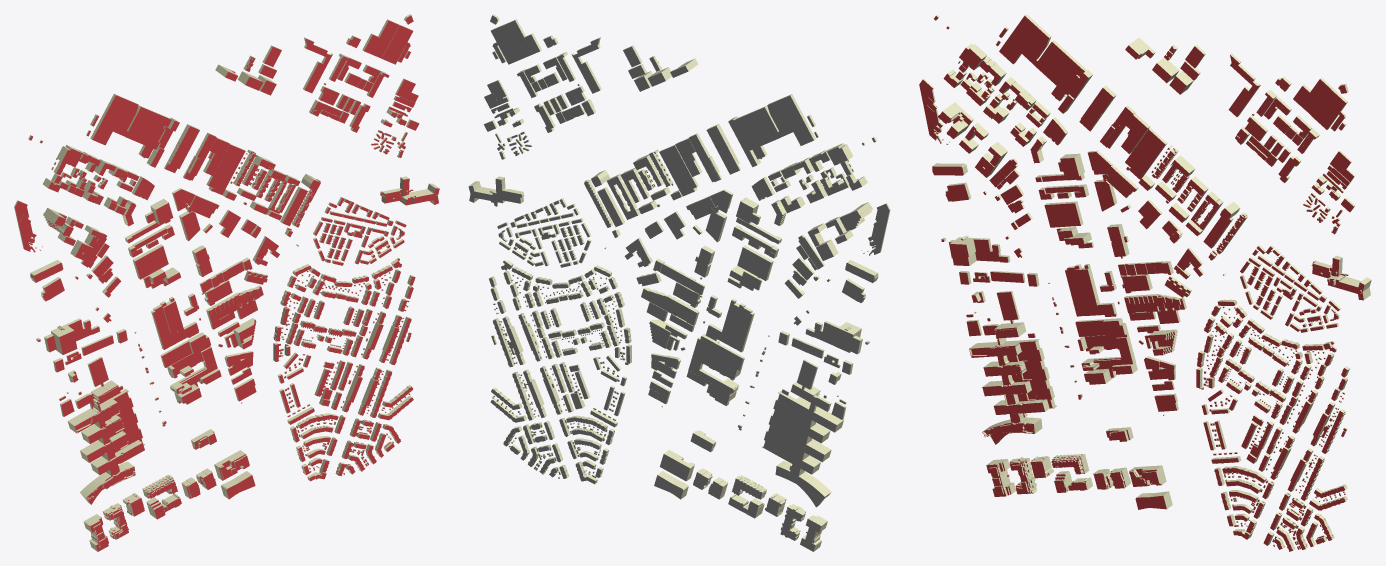
The picture shows the model from 3 angles, left to right: view 1: azimuth 30°, elevation 25°; view 2: azimuth 150°, elevation 25°; view 3: azimuth 330°, elevation 25°; orthographic projection. The views are drawn at different scales.
Visible parts, largest first — view 1: NL.IMBAG.Pand.0363100012202175-24, NL.IMBAG.Pand.0363100012114605-174, NL.IMBAG.Pand.0363100012064810-49, NL.IMBAG.Pand.0363100012134024-43, NL.IMBAG.Pand.0363100012201637-1, NL.IMBAG.Pand.0363100012150568-1884, NL.IMBAG.Pand.0363100012253661-1615, NL.IMBAG.Pand.0363100012209785-44, NL.IMBAG.Pand.0363100012240270-153, NL.IMBAG.Pand.0363100012111806-184, NL.IMBAG.Pand.0363100012079326-1946, NL.IMBAG.Pand.0363100012252988-225 (+9 smaller); view 2: NL.IMBAG.Pand.0363100012202175-24, NL.IMBAG.Pand.0363100012114605-174, NL.IMBAG.Pand.0363100012064810-49, NL.IMBAG.Pand.0363100012201637-1, NL.IMBAG.Pand.0363100012134024-43, NL.IMBAG.Pand.0363100012253661-1615, NL.IMBAG.Pand.0363100012150568-1884, NL.IMBAG.Pand.0363100012209785-44, NL.IMBAG.Pand.0363100012240270-153, NL.IMBAG.Pand.0363100012111806-184, NL.IMBAG.Pand.0363100012079326-1946, NL.IMBAG.Pand.0363100012252988-225 (+8 smaller); view 3: NL.IMBAG.Pand.0363100012202175-24, NL.IMBAG.Pand.0363100012114605-174, NL.IMBAG.Pand.0363100012064810-49, NL.IMBAG.Pand.0363100012134024-43, NL.IMBAG.Pand.0363100012201637-1, NL.IMBAG.Pand.0363100012150568-1884, NL.IMBAG.Pand.0363100012253661-1615, NL.IMBAG.Pand.0363100012240270-153, NL.IMBAG.Pand.0363100012209785-44, NL.IMBAG.Pand.0363100012128727-1966, NL.IMBAG.Pand.0363100012079326-1946, NL.IMBAG.Pand.0363100012111806-184 (+10 smaller).
Part boxes in pixels (<box>): NL.IMBAG.Pand.0363100012202175-24: <box>67,356,144,504</box>; NL.IMBAG.Pand.0363100012114605-174: <box>90,94,169,158</box>; NL.IMBAG.Pand.0363100012064810-49: <box>151,296,198,349</box>; NL.IMBAG.Pand.0363100012134024-43: <box>167,346,217,394</box>; NL.IMBAG.Pand.0363100012201637-1: <box>44,318,99,354</box>; NL.IMBAG.Pand.0363100012150568-1884: <box>380,176,439,205</box>; NL.IMBAG.Pand.0363100012253661-1615: <box>206,144,245,194</box>; NL.IMBAG.Pand.0363100012209785-44: <box>160,332,210,367</box>; NL.IMBAG.Pand.0363100012240270-153: <box>133,244,168,279</box>; NL.IMBAG.Pand.0363100012111806-184: <box>164,124,199,172</box>; NL.IMBAG.Pand.0363100012079326-1946: <box>303,37,332,93</box>; NL.IMBAG.Pand.0363100012252988-225: <box>214,450,249,480</box>; NL.IMBAG.Pand.0363100012202175-24: <box>762,359,843,507</box>; NL.IMBAG.Pand.0363100012114605-174: <box>735,94,815,159</box>; NL.IMBAG.Pand.0363100012064810-49: <box>706,298,754,352</box>; NL.IMBAG.Pand.0363100012201637-1: <box>805,321,862,354</box>; NL.IMBAG.Pand.0363100012134024-43: <box>688,346,741,393</box>; NL.IMBAG.Pand.0363100012253661-1615: <box>659,145,698,196</box>; NL.IMBAG.Pand.0363100012150568-1884: <box>468,176,524,203</box>; NL.IMBAG.Pand.0363100012209785-44: <box>695,333,744,370</box>; NL.IMBAG.Pand.0363100012240270-153: <box>737,245,773,280</box>; NL.IMBAG.Pand.0363100012111806-184: <box>706,124,740,174</box>; NL.IMBAG.Pand.0363100012079326-1946: <box>571,37,601,93</box>; NL.IMBAG.Pand.0363100012252988-225: <box>660,450,694,481</box>; NL.IMBAG.Pand.0363100012202175-24: <box>969,291,1056,444</box>; NL.IMBAG.Pand.0363100012114605-174: <box>999,14,1084,101</box>; NL.IMBAG.Pand.0363100012064810-49: <box>1065,264,1116,316</box>; NL.IMBAG.Pand.0363100012134024-43: <box>1077,333,1135,370</box>; NL.IMBAG.Pand.0363100012201637-1: <box>948,237,1010,265</box>; NL.IMBAG.Pand.0363100012150568-1884: <box>1311,255,1371,300</box>; NL.IMBAG.Pand.0363100012253661-1615: <box>1125,128,1167,179</box>; NL.IMBAG.Pand.0363100012240270-153: <box>1044,201,1083,227</box>; NL.IMBAG.Pand.0363100012209785-44: <box>1075,318,1128,336</box>; NL.IMBAG.Pand.0363100012128727-1966: <box>1312,88,1347,129</box>; NL.IMBAG.Pand.0363100012079326-1946: <box>1228,53,1260,116</box>; NL.IMBAG.Pand.0363100012111806-184: <box>1079,85,1116,131</box>.
Bounding box in the file's own units: 997 × 1043 × 50.32.
